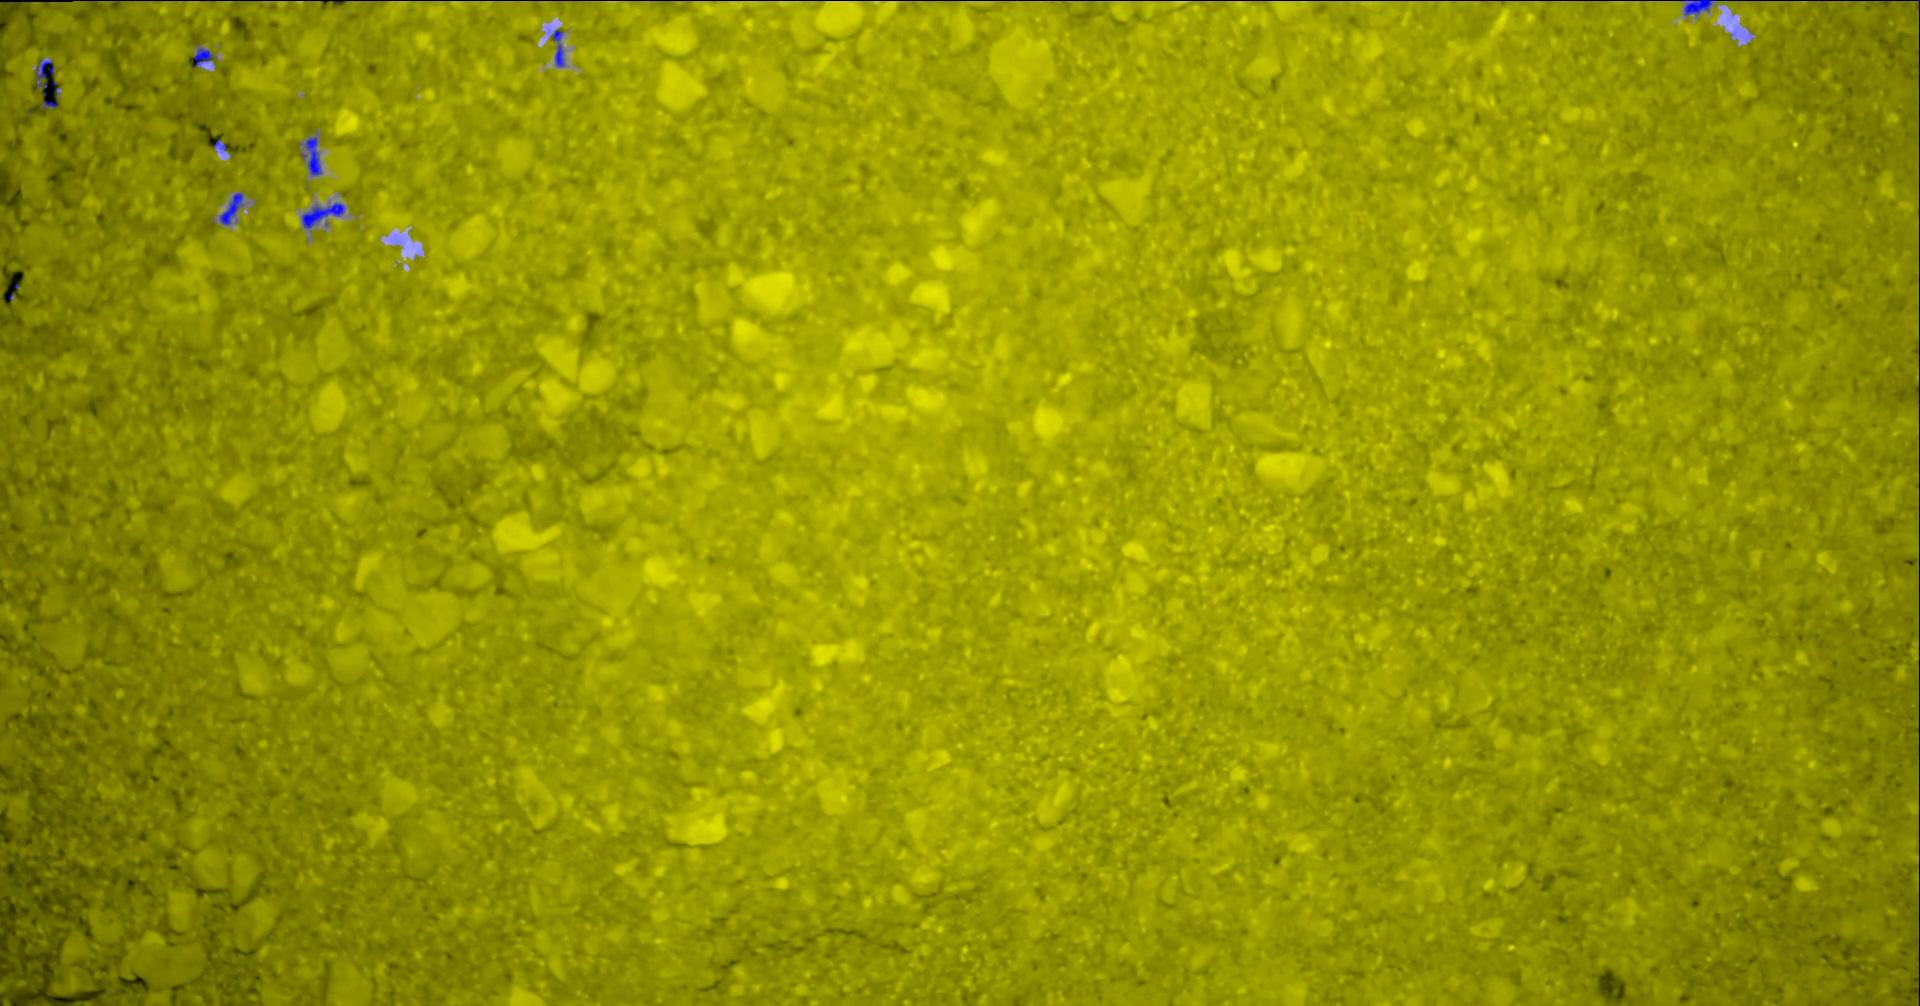ant: (301, 202, 344, 227), (301, 136, 321, 175), (218, 192, 243, 224), (36, 58, 55, 95), (1683, 0, 1716, 15), (551, 29, 564, 66), (192, 47, 215, 66), (41, 100, 57, 108)
